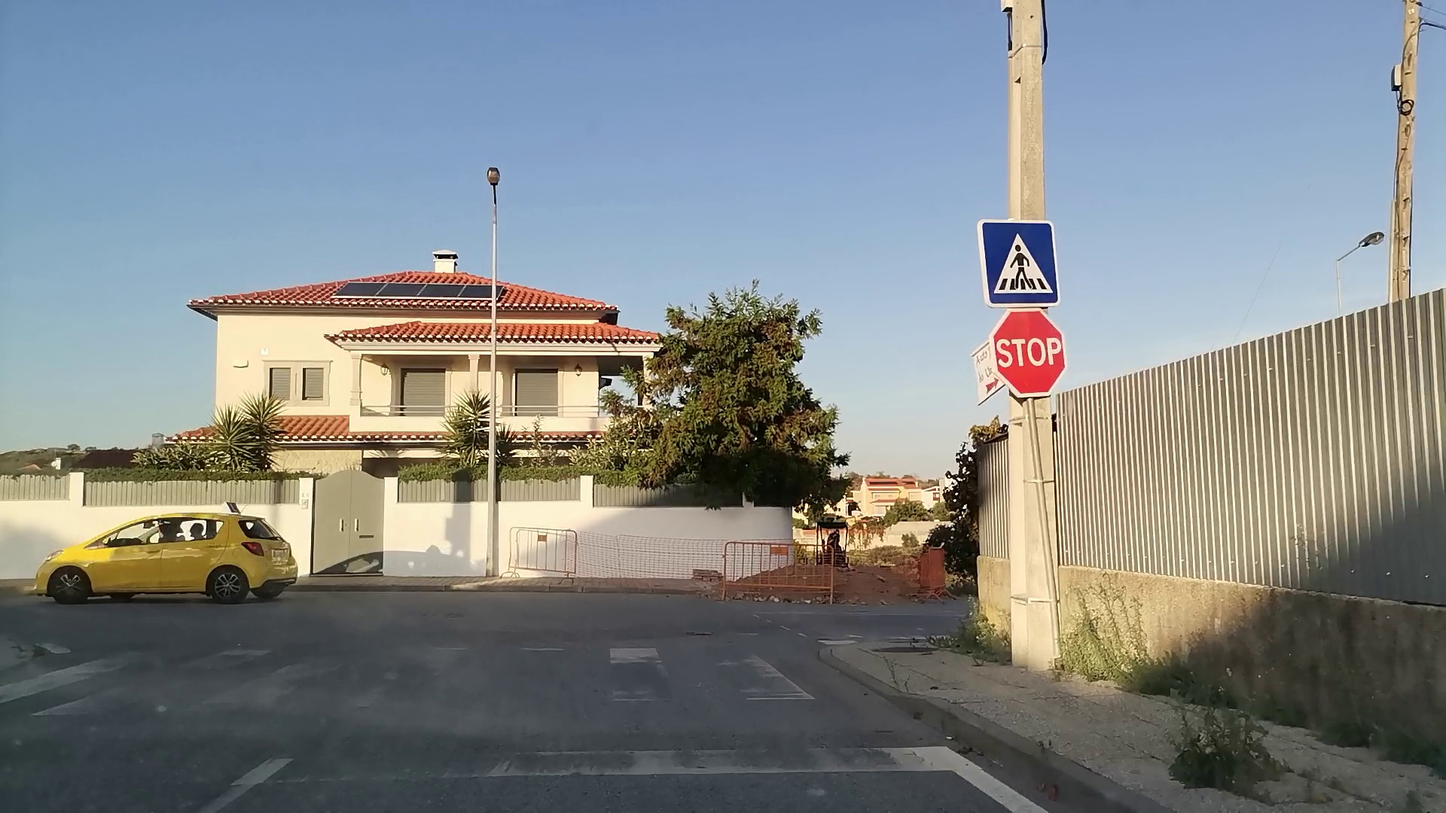Stairs: (0, 626, 815, 731)
